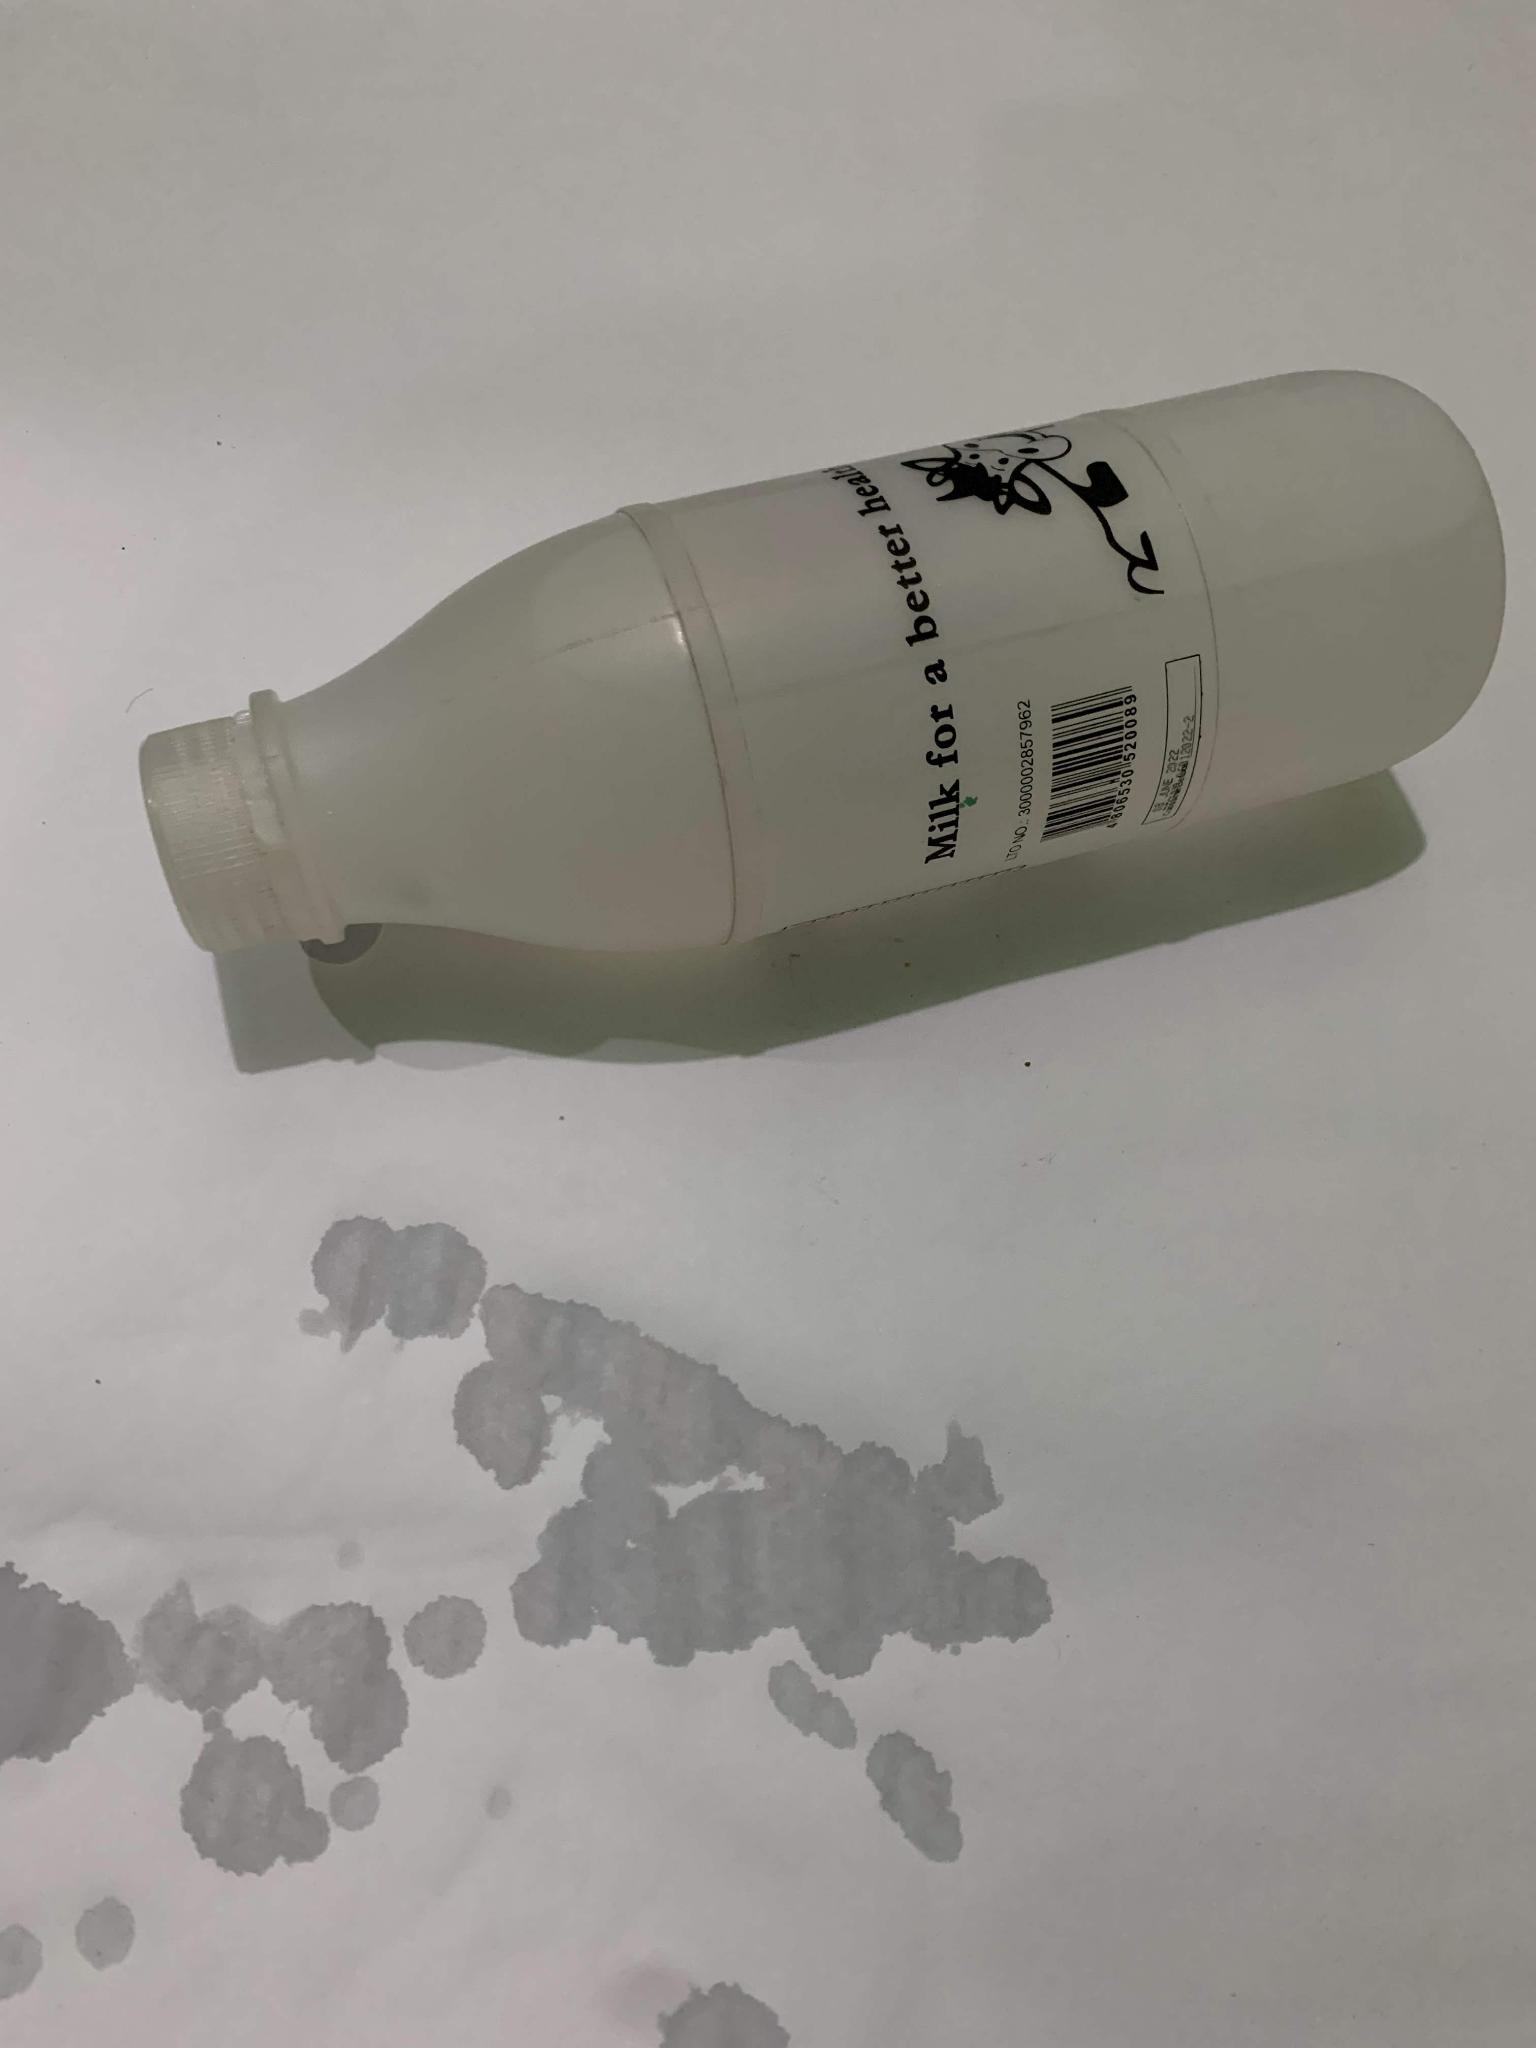bottle: (0, 356, 1536, 974)
